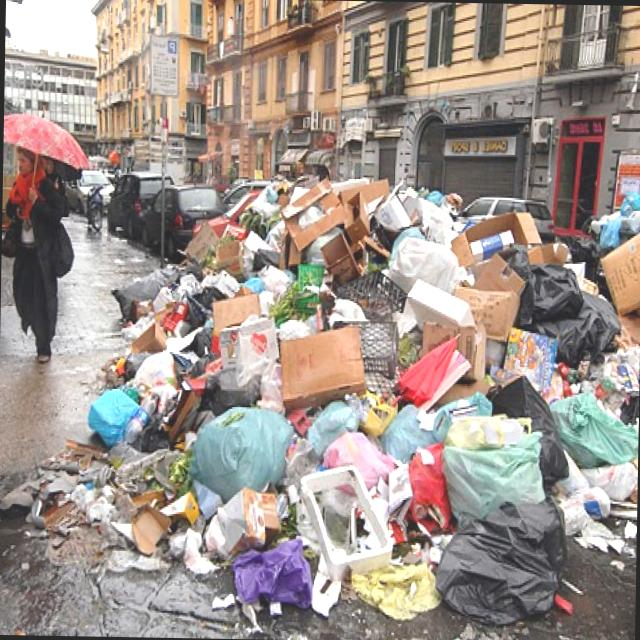garbage: (83, 164, 640, 637)
